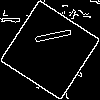I: (25, 25, 73, 49)
